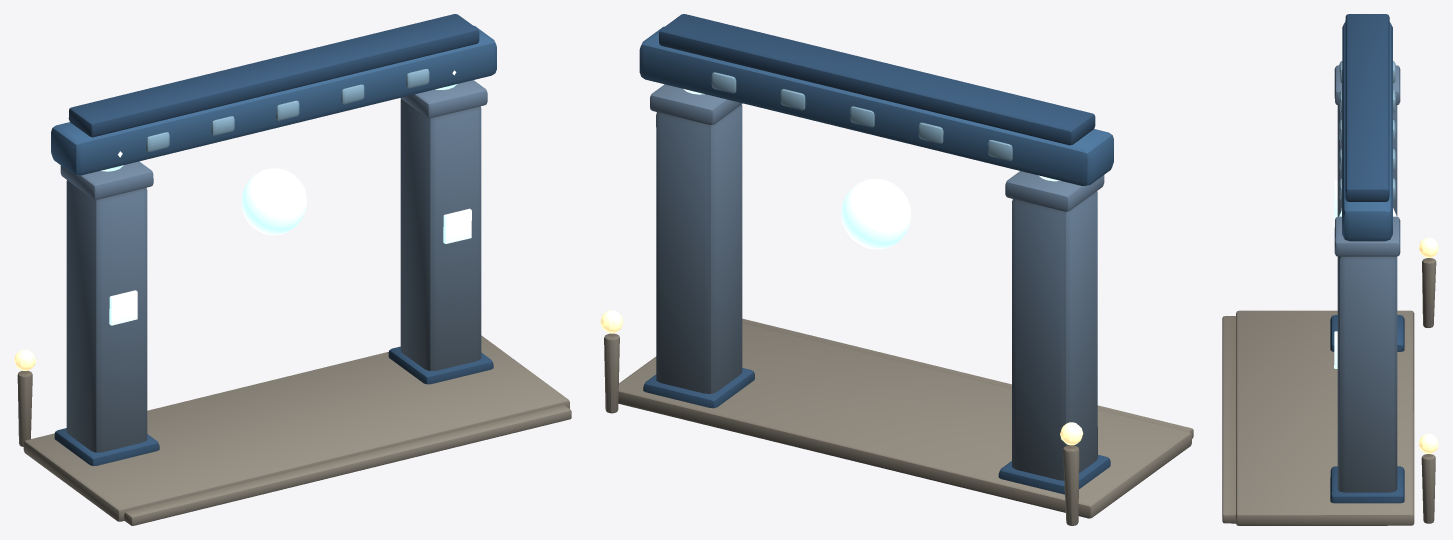
The picture shows the model from 3 angles, left to right: view 1: azimuth 30°, elevation 25°; view 2: azimuth 150°, elevation 25°; view 3: azimuth 270°, elevation 25°; orthographic projection. The views are drawn at different scales.
Parts seen in each view (by area): view 1: gate_45c9232f; view 2: gate_45c9232f; view 3: gate_45c9232f.
Part boxes in pixels (left/top/right/bottom): gate_45c9232f: left=14, top=14, right=571, bottom=525; gate_45c9232f: left=600, top=14, right=1193, bottom=525; gate_45c9232f: left=1222, top=14, right=1438, bottom=525.
Size of the model in its own units: 5.72 by 4.21 by 2.55.
